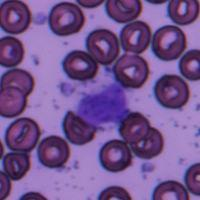M: (76, 82, 130, 127)
